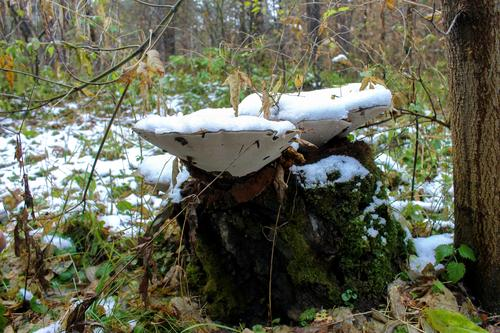Ganoderma - Fruit Body: (127, 119, 290, 181), (292, 86, 385, 160)
